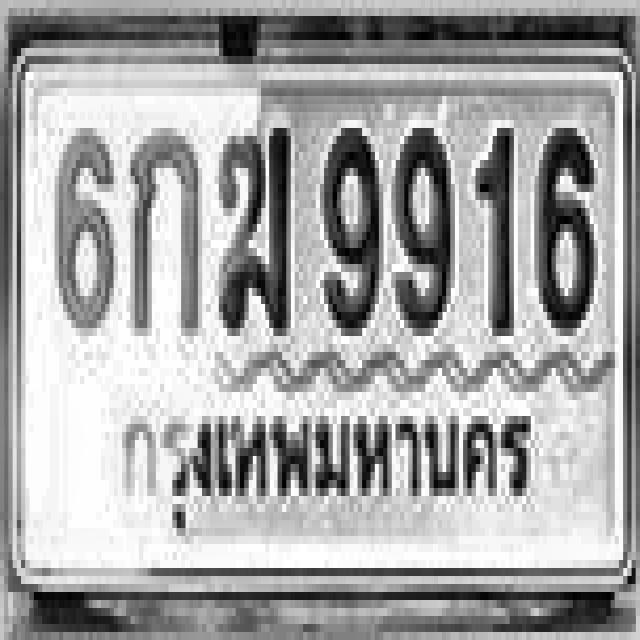license-plate: (14, 40, 633, 586)
